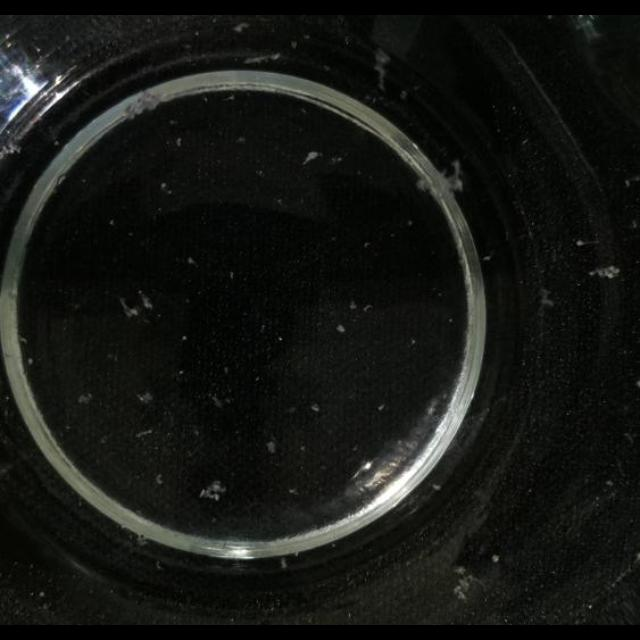Fibre: (124, 88, 162, 120), (341, 296, 377, 320), (454, 571, 481, 601), (442, 162, 464, 194), (373, 51, 391, 89), (198, 481, 226, 502), (538, 286, 554, 308), (138, 292, 154, 310), (302, 152, 320, 166), (136, 392, 154, 404), (78, 392, 94, 404)
microbeads: (592, 265, 620, 279), (576, 240, 588, 247), (491, 554, 499, 562)
